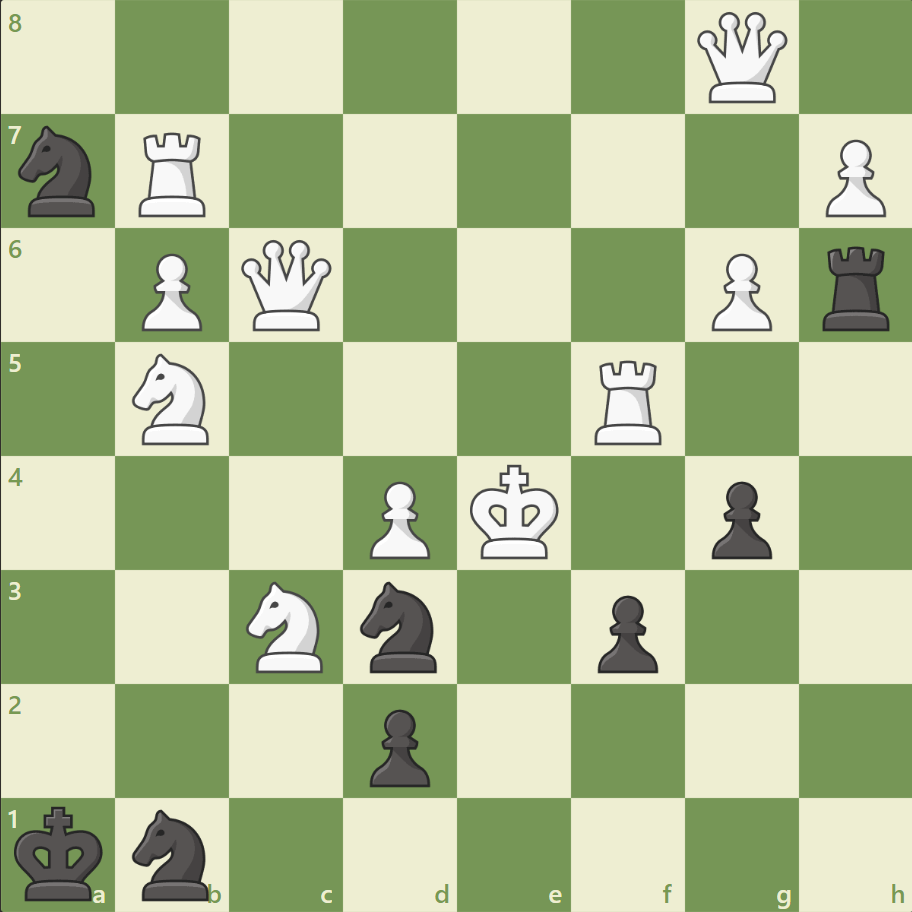K: (465, 458, 565, 566)
N: (124, 348, 222, 450), (238, 575, 335, 677)
P: (133, 246, 208, 337), (701, 246, 776, 337), (815, 132, 889, 223), (361, 473, 435, 564)
Q: (691, 9, 790, 108), (237, 236, 336, 335)
R: (587, 352, 670, 449), (133, 125, 215, 222)
k: (11, 798, 111, 906)
n: (351, 575, 449, 677), (124, 802, 222, 904), (11, 121, 108, 223)
p: (701, 473, 776, 564), (588, 586, 662, 677), (361, 700, 435, 791)
r: (814, 239, 897, 336)
